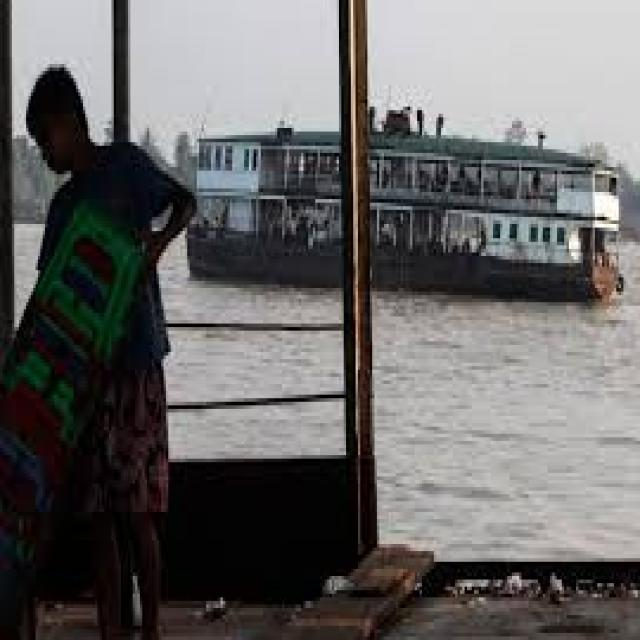passenger ship: (164, 103, 604, 350)
